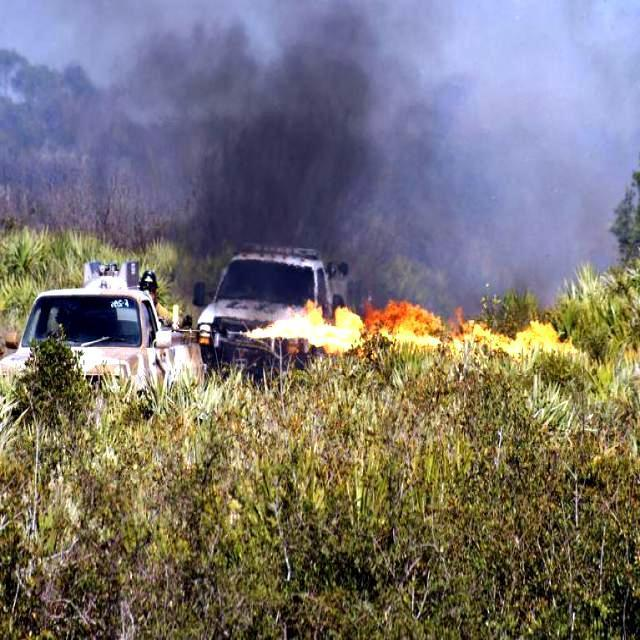Fire: (316, 297, 578, 359)
Smoke: (52, 1, 516, 283)
